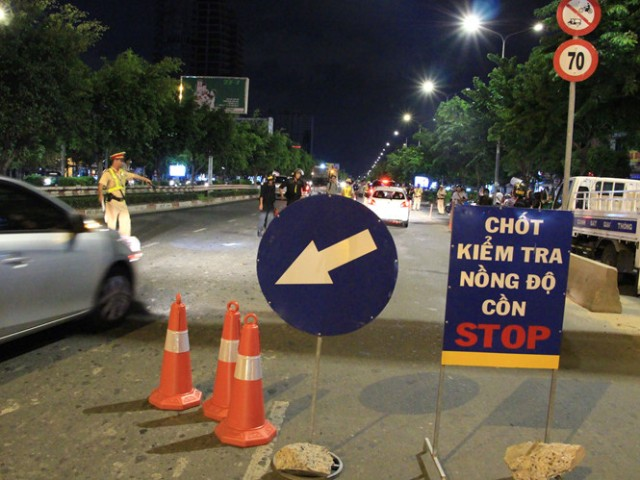police: (97, 148, 155, 256)
